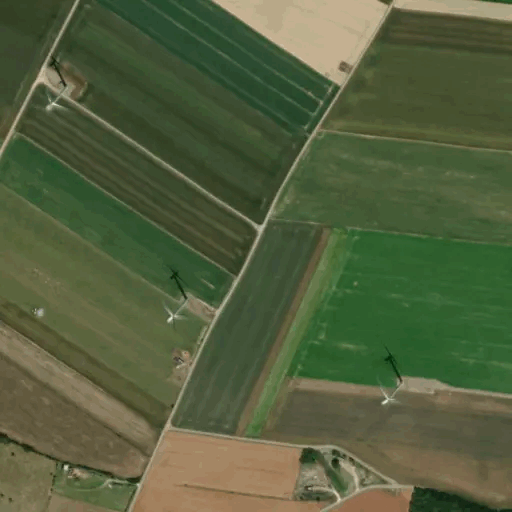wt: (158, 257, 199, 330), (34, 46, 76, 116), (369, 340, 410, 408)
